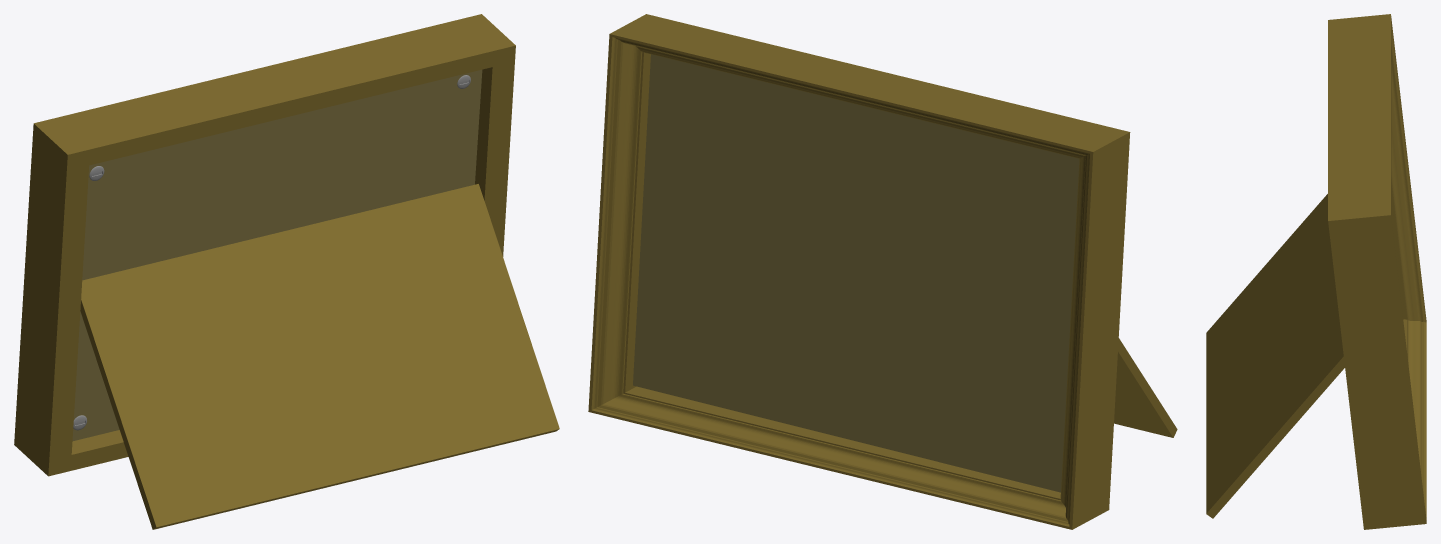
The model's file is 写真立て.fbx.
The picture shows the model from 3 angles, left to right: view 1: azimuth 30°, elevation 25°; view 2: azimuth 150°, elevation 25°; view 3: azimuth 270°, elevation 25°; orthographic projection. The views are drawn at different scales.
Visible parts, largest first — view 1: 立方体, Cube, 平面; view 2: 平面.001, Cube, 立方体; view 3: Cube, 立方体.
Part boxes in pixels (x1,y1,x2,y2): 立方体: (80, 184, 559, 529); Cube: (14, 14, 515, 476); 平面: (72, 69, 482, 440); 平面.001: (633, 54, 1079, 492); Cube: (588, 14, 1130, 529); 立方体: (1114, 338, 1177, 437); Cube: (1328, 14, 1426, 529); 立方体: (1206, 194, 1344, 518).
Size of the model in its own units: 200 by 146 by 92.73.
